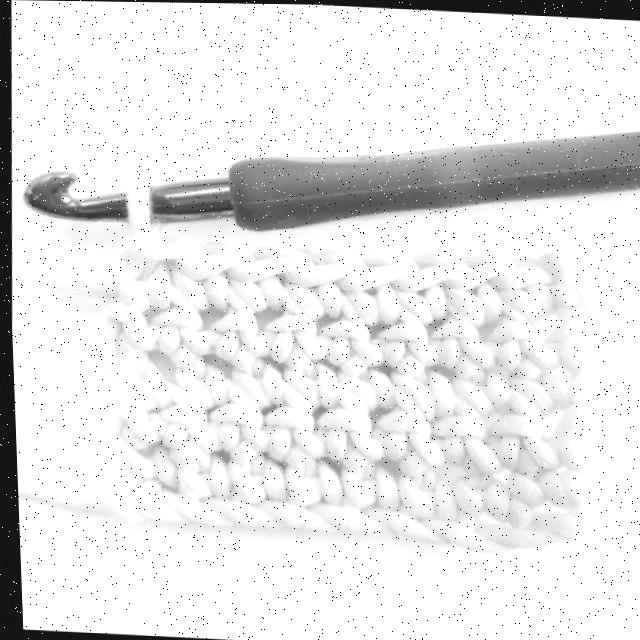ch: (305, 502, 389, 532), (361, 507, 433, 541), (156, 486, 219, 524), (249, 500, 331, 528), (202, 500, 272, 528), (421, 519, 488, 547), (476, 522, 558, 542), (123, 494, 176, 522)
sc: (503, 444, 592, 527), (114, 235, 201, 308), (375, 379, 443, 461), (430, 391, 502, 468), (339, 251, 415, 323), (169, 241, 251, 307), (222, 247, 307, 310), (485, 392, 556, 467), (441, 251, 512, 323), (311, 383, 381, 455), (262, 283, 323, 362), (490, 302, 559, 371), (282, 252, 362, 311), (261, 382, 322, 459), (154, 379, 218, 448), (389, 349, 449, 419), (150, 287, 210, 356), (390, 264, 454, 328), (207, 383, 268, 450), (164, 440, 229, 502), (484, 256, 549, 318), (223, 435, 282, 501), (320, 297, 379, 363), (429, 304, 490, 367), (397, 444, 450, 515), (451, 354, 511, 416), (336, 447, 396, 508), (113, 349, 169, 414), (374, 303, 432, 364), (208, 294, 265, 356), (226, 344, 284, 403), (451, 454, 505, 517), (280, 345, 333, 406), (169, 345, 223, 403), (333, 349, 386, 406), (122, 429, 172, 489), (281, 448, 335, 501), (509, 355, 565, 406), (100, 304, 156, 352)
